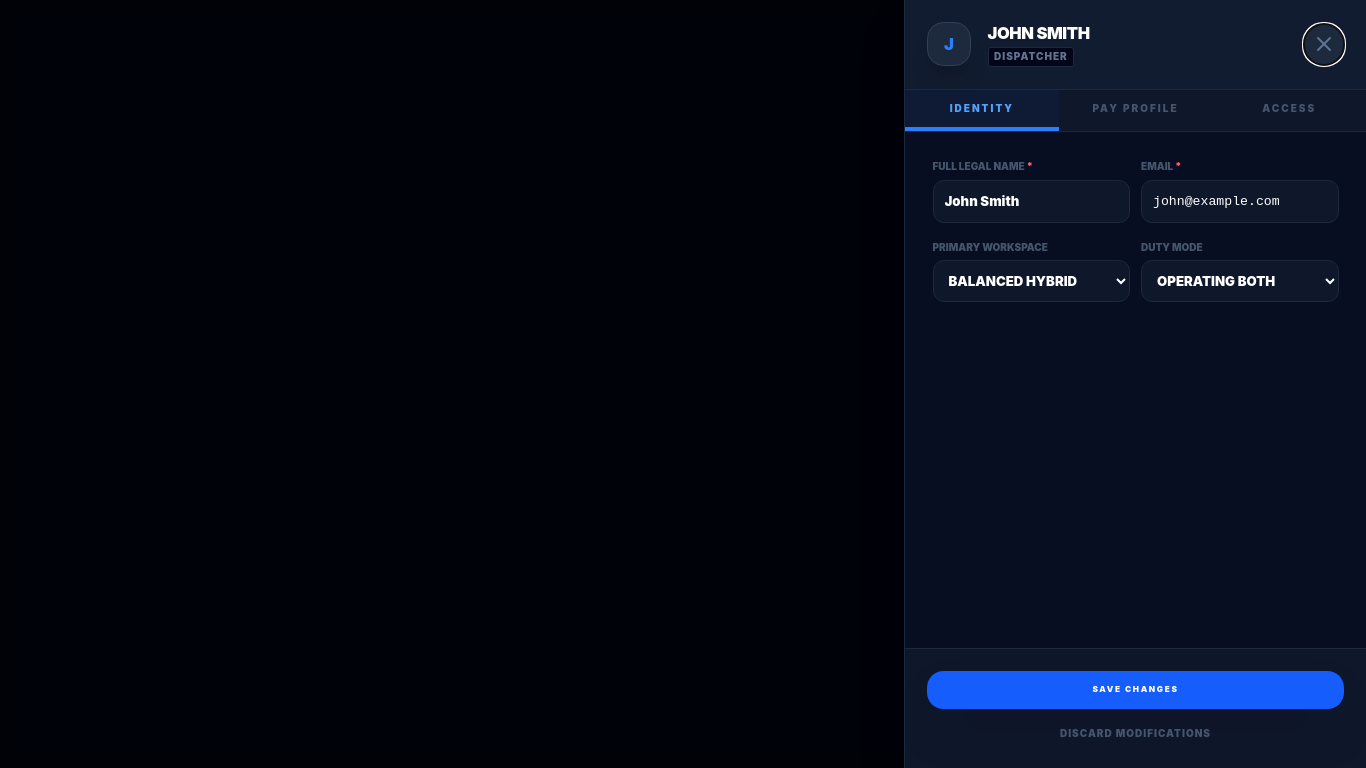
Test: EditUserModal / UserProfilePanel › shows salary label when pay model is salary
This screenshot has width=1366, height=768.
Click the button "Pay Profile".
click(1136, 110)  # box left=1059, top=90, right=1212, bottom=130
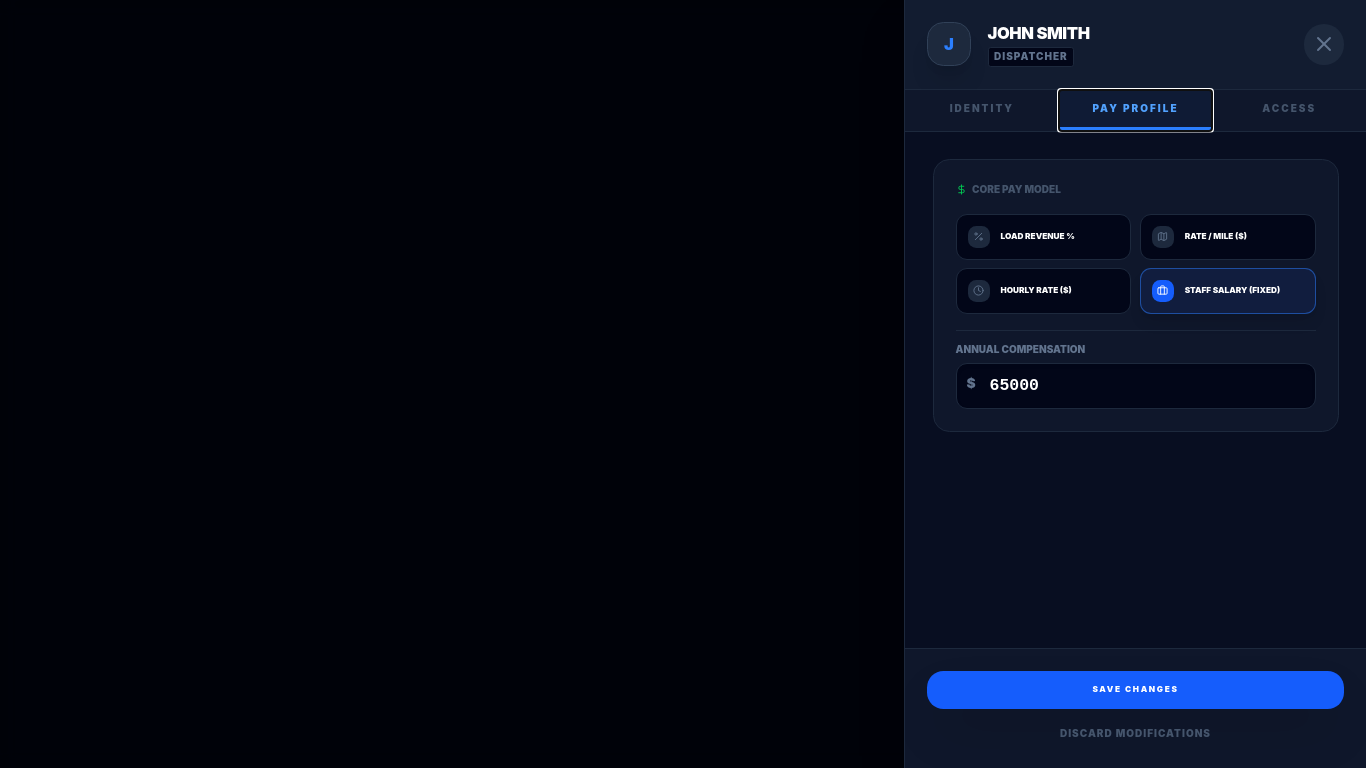
Result: the text "Annual Compensation" is shown at left=956, top=343, right=1085, bottom=355
